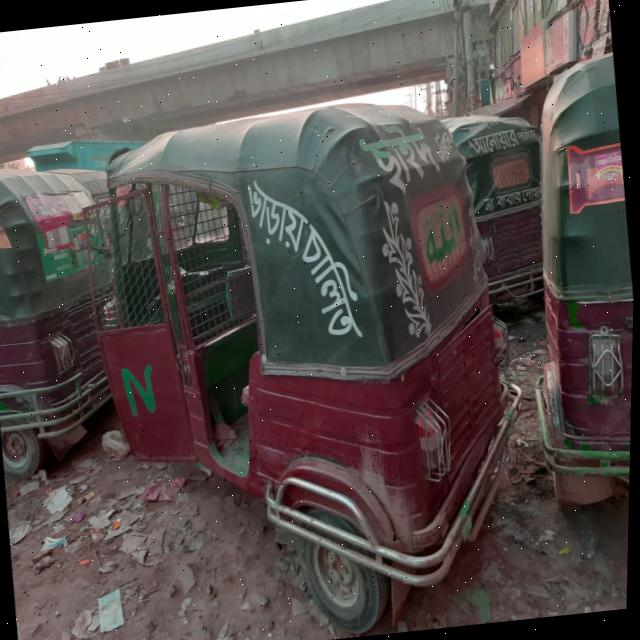cng: (57, 52, 531, 640)
